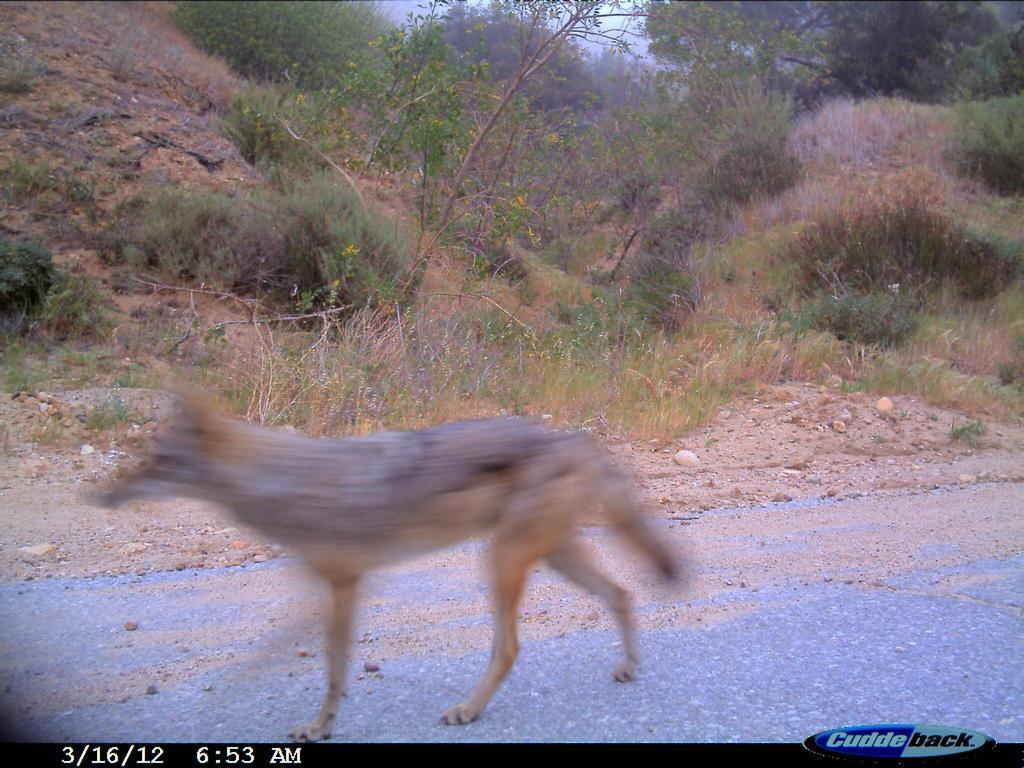coyote: (84, 361, 692, 745)
